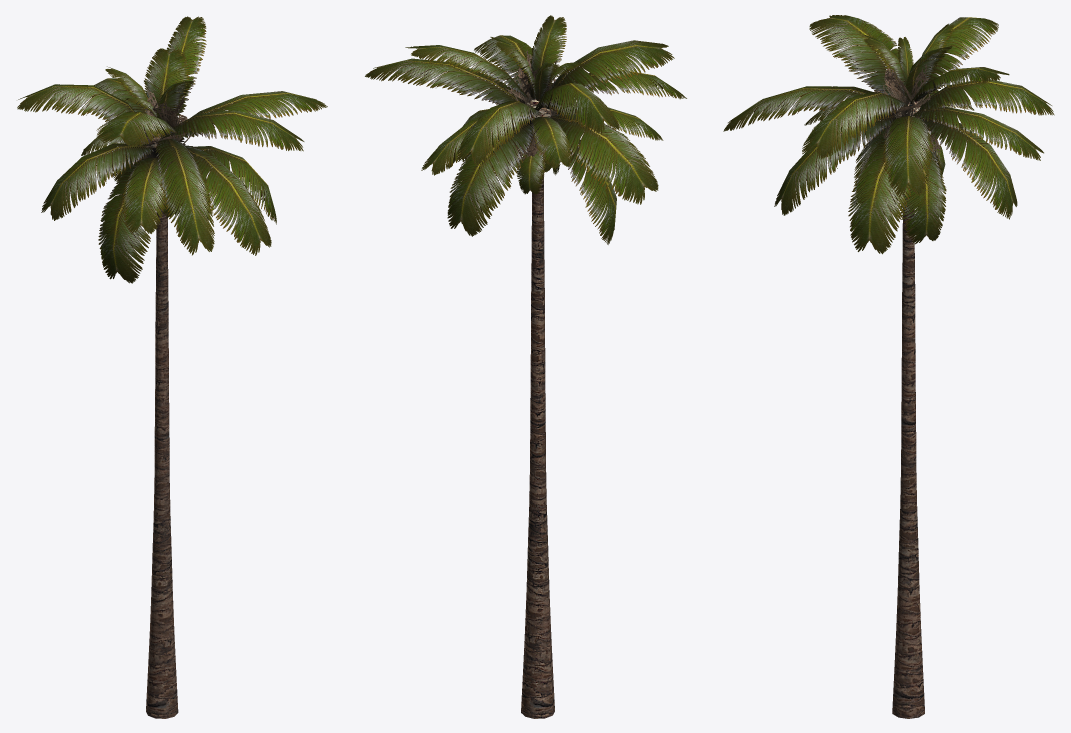
The model's file is palm-lod.glb.
The picture shows the model from 3 angles, left to right: view 1: azimuth 30°, elevation 25°; view 2: azimuth 150°, elevation 25°; view 3: azimuth 270°, elevation 25°; orthographic projection. The views are drawn at different scales.
Parts seen in each view (by area): view 1: open_palm_distance; view 2: open_palm_distance; view 3: open_palm_distance.
Boxes of the visible parts, box(x1,y1,x2,y2) form: open_palm_distance: box(17, 16, 327, 718); open_palm_distance: box(365, 15, 686, 718); open_palm_distance: box(723, 15, 1054, 718).
Bounding box in the file's own units: 3.61 × 8 × 3.6.
1 material, 1 textured.
